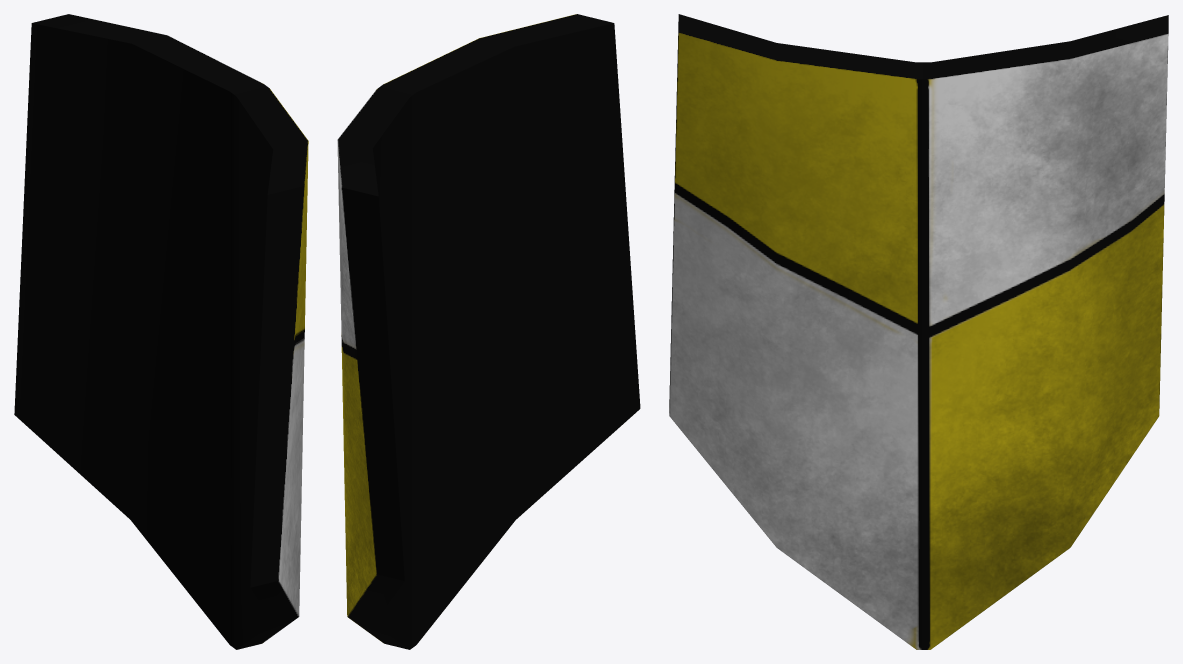
The model's file is shieldhard.fbx.
The picture shows the model from 3 angles, left to right: view 1: azimuth 30°, elevation 25°; view 2: azimuth 150°, elevation 25°; view 3: azimuth 270°, elevation 25°; orthographic projection. The views are drawn at different scales.
Visible parts, largest first — view 1: pCube72; view 2: pCube72; view 3: pCube72.
Part boxes in pixels (x1,y1,x2,y2): pCube72: (14,14,308,649); pCube72: (337,14,640,649); pCube72: (669,14,1168,649).
Size of the model in its own units: 2.56 by 9.88 by 7.7.
Materials: 1 (1 with a texture image).
